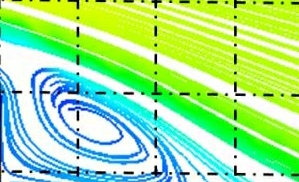vortox: (30, 67, 149, 164)
